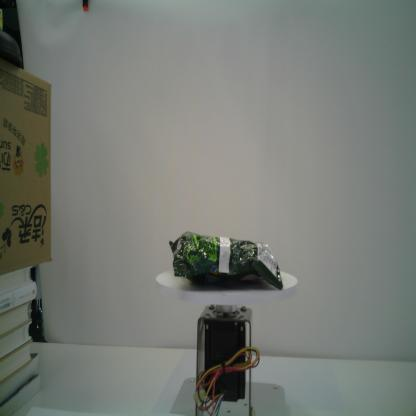Instant Noodles: (167, 229, 285, 294)
